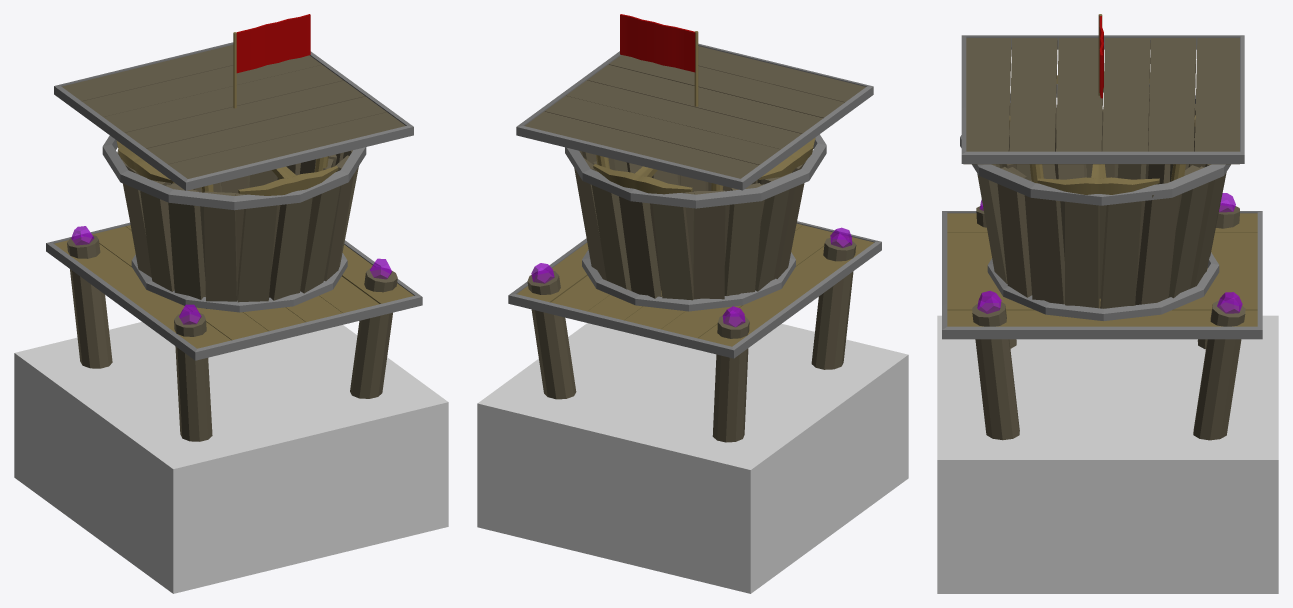
The model's file is ArcherTowerLevel2.fbx.
3 views of the same model, side by side, from view 1: azimuth 30°, elevation 25°; view 2: azimuth 150°, elevation 25°; view 3: azimuth 270°, elevation 25° (orthographic). The views are drawn at different scales.
Visible parts, largest first — view 1: ArcherTowerLvl2; view 2: ArcherTowerLvl2; view 3: ArcherTowerLvl2.
Boxes of the visible parts, x1=… form: ArcherTowerLvl2: x1=14, y1=14, x2=448, y2=593; ArcherTowerLvl2: x1=477, y1=14, x2=908, y2=593; ArcherTowerLvl2: x1=937, y1=14, x2=1278, y2=593.
Size of the model in its own units: 4 by 6.56 by 4.
